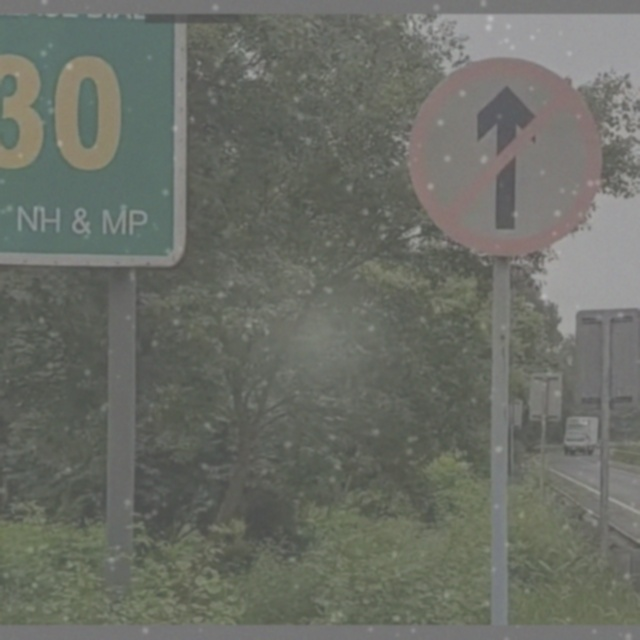No_Entry: (411, 56, 604, 252)
